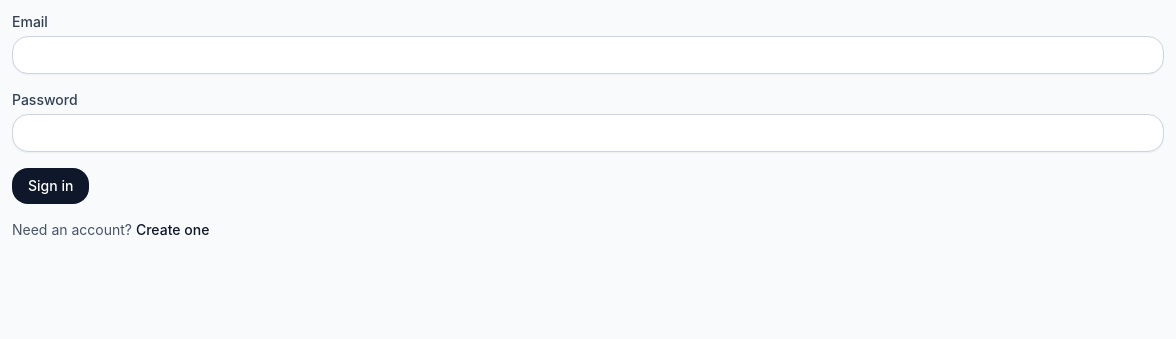
Test: LoginForm API errors › shows connection message when server is unreachable
This screenshot has width=1176, height=339.
Type "buyer@example.com" into the field labelled "Email".
click(588, 55); type("buyer@example.com")  # box [12,36,1164,74]
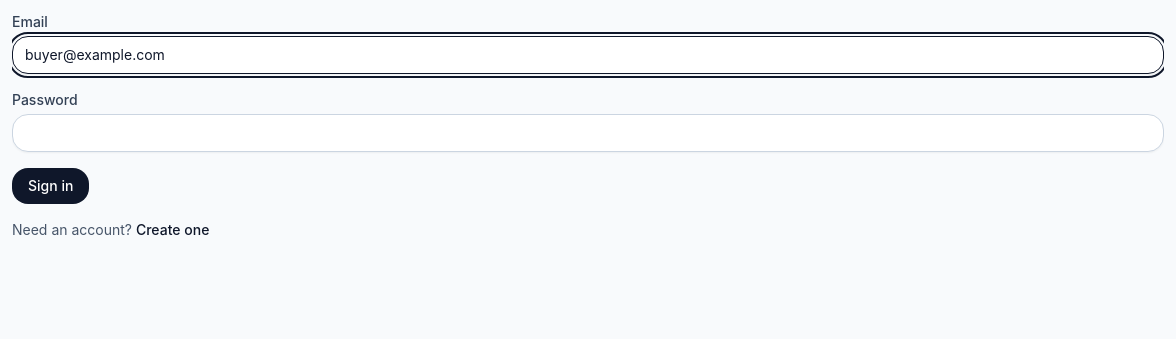
Type "secret123" into the password field labelled "Password".
click(588, 133); type("secret123")  # box [12,114,1164,152]
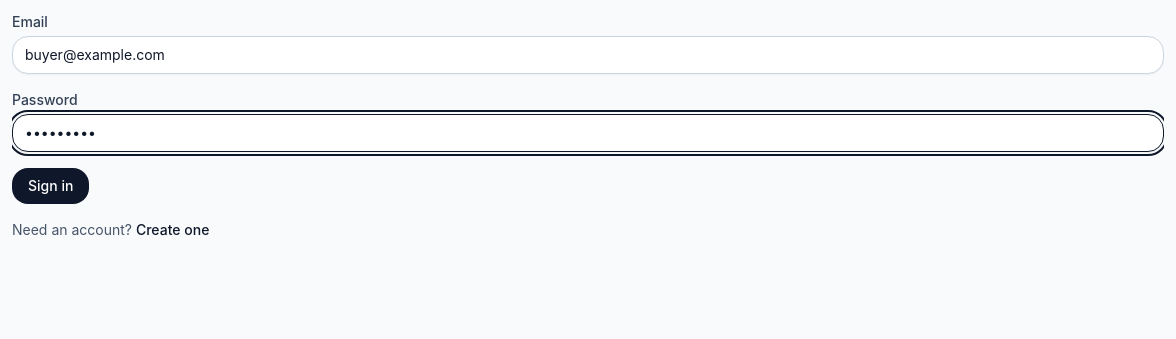
Click the button "Sign in".
click(51, 186)  # box [12,168,89,204]
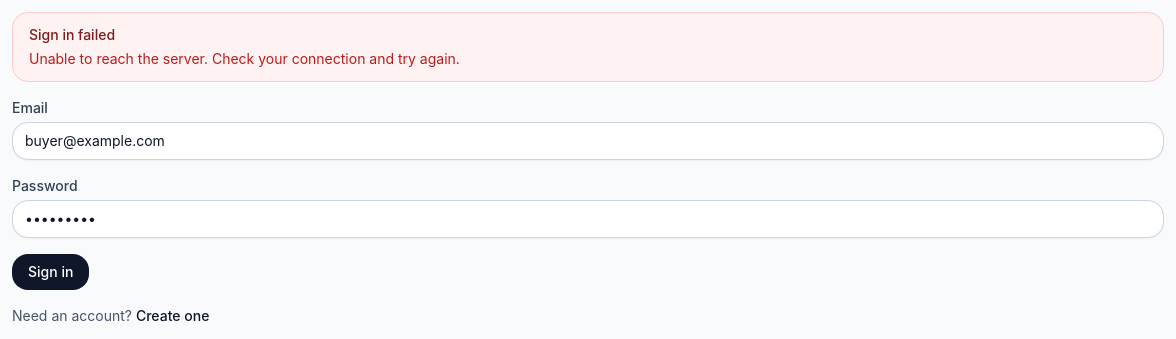
Expected: the text "Unable to reach the server. Check your connection and try again." is shown, [29,50,460,67]
